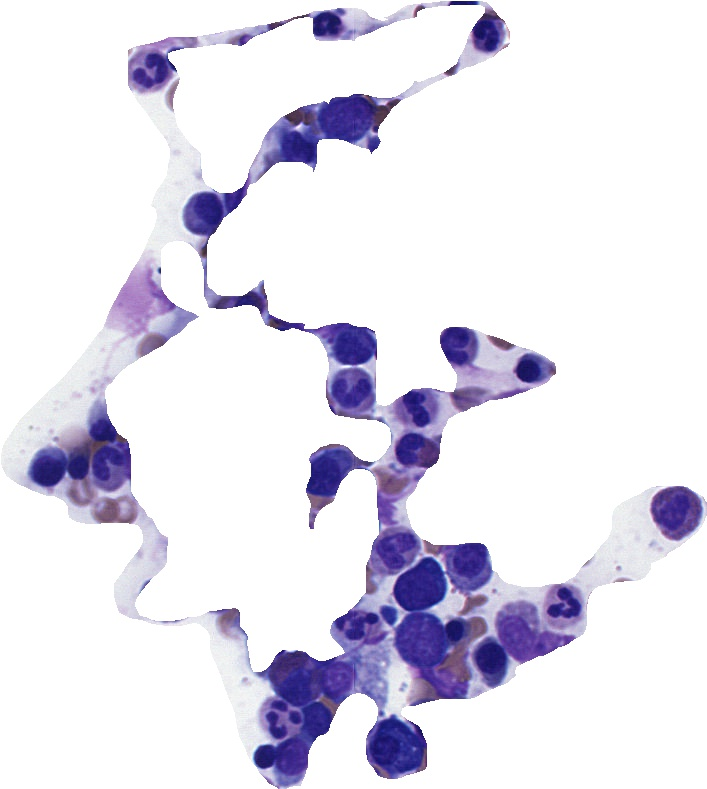objectness: (367, 723, 417, 773), (368, 521, 418, 571), (538, 579, 588, 629), (254, 693, 304, 743), (324, 601, 374, 651), (124, 46, 174, 96), (433, 319, 483, 369), (464, 10, 514, 60), (392, 384, 442, 434), (442, 540, 492, 590), (327, 316, 377, 366), (179, 185, 229, 235), (271, 654, 321, 704), (651, 486, 701, 536), (392, 424, 442, 474), (324, 367, 374, 417), (82, 441, 132, 491), (394, 612, 444, 662), (392, 560, 442, 610), (317, 92, 367, 142), (492, 602, 542, 652), (312, 653, 362, 703), (363, 479, 413, 529), (422, 653, 472, 703), (361, 591, 411, 641), (270, 120, 320, 170), (266, 734, 316, 784), (291, 694, 341, 744), (20, 443, 70, 493), (464, 633, 514, 683), (430, 604, 480, 654), (75, 401, 125, 451), (54, 441, 104, 491), (297, 449, 347, 499), (503, 341, 553, 391), (302, 0, 352, 47)
